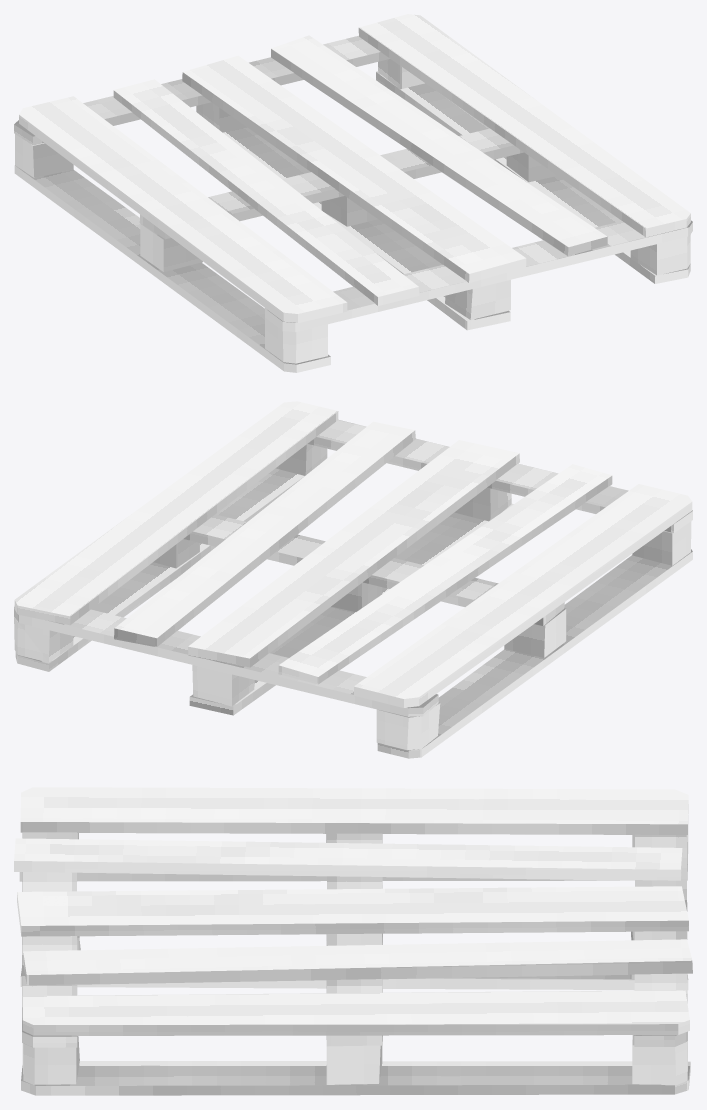
File: WoodenLengthwisePalletUS.glb
3 renders of one model, top to bottom at view 1: azimuth 30°, elevation 25°; view 2: azimuth 150°, elevation 25°; view 3: azimuth 270°, elevation 25°, orthographic. The views are drawn at different scales.
Parts seen in each view (by area): view 1: WoodenLengthwisePalletUS; view 2: WoodenLengthwisePalletUS; view 3: WoodenLengthwisePalletUS.
Boxes of the visible parts, x1,y1,x2,y2 form: WoodenLengthwisePalletUS: (14,14,692,372); WoodenLengthwisePalletUS: (14,401,692,758); WoodenLengthwisePalletUS: (14,787,692,1095).
Bounding box in the file's own units: 1.02 × 0.1441 × 1.22.
1 material, 1 textured.
